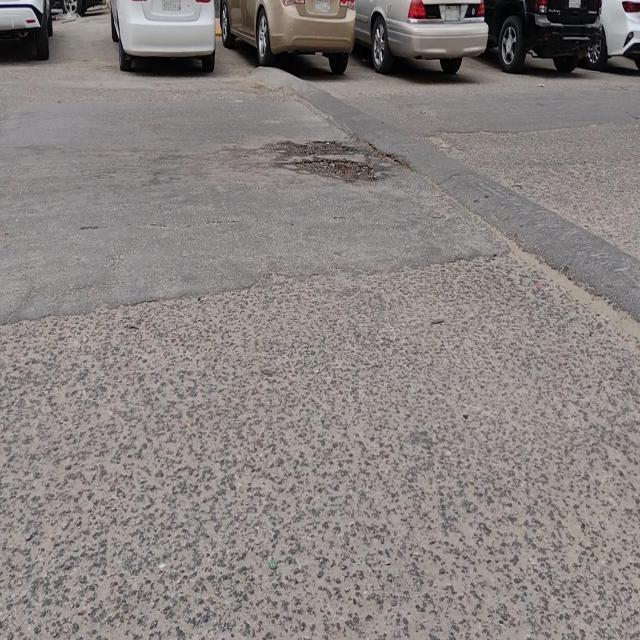Pothole: (293, 159, 376, 182), (267, 139, 358, 155)
Unmarked Bump: (255, 68, 640, 321)
